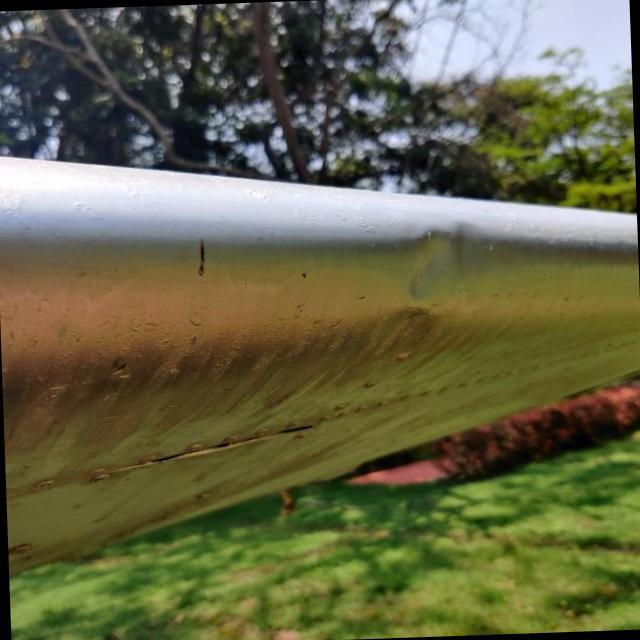dent: (383, 224, 492, 306)
